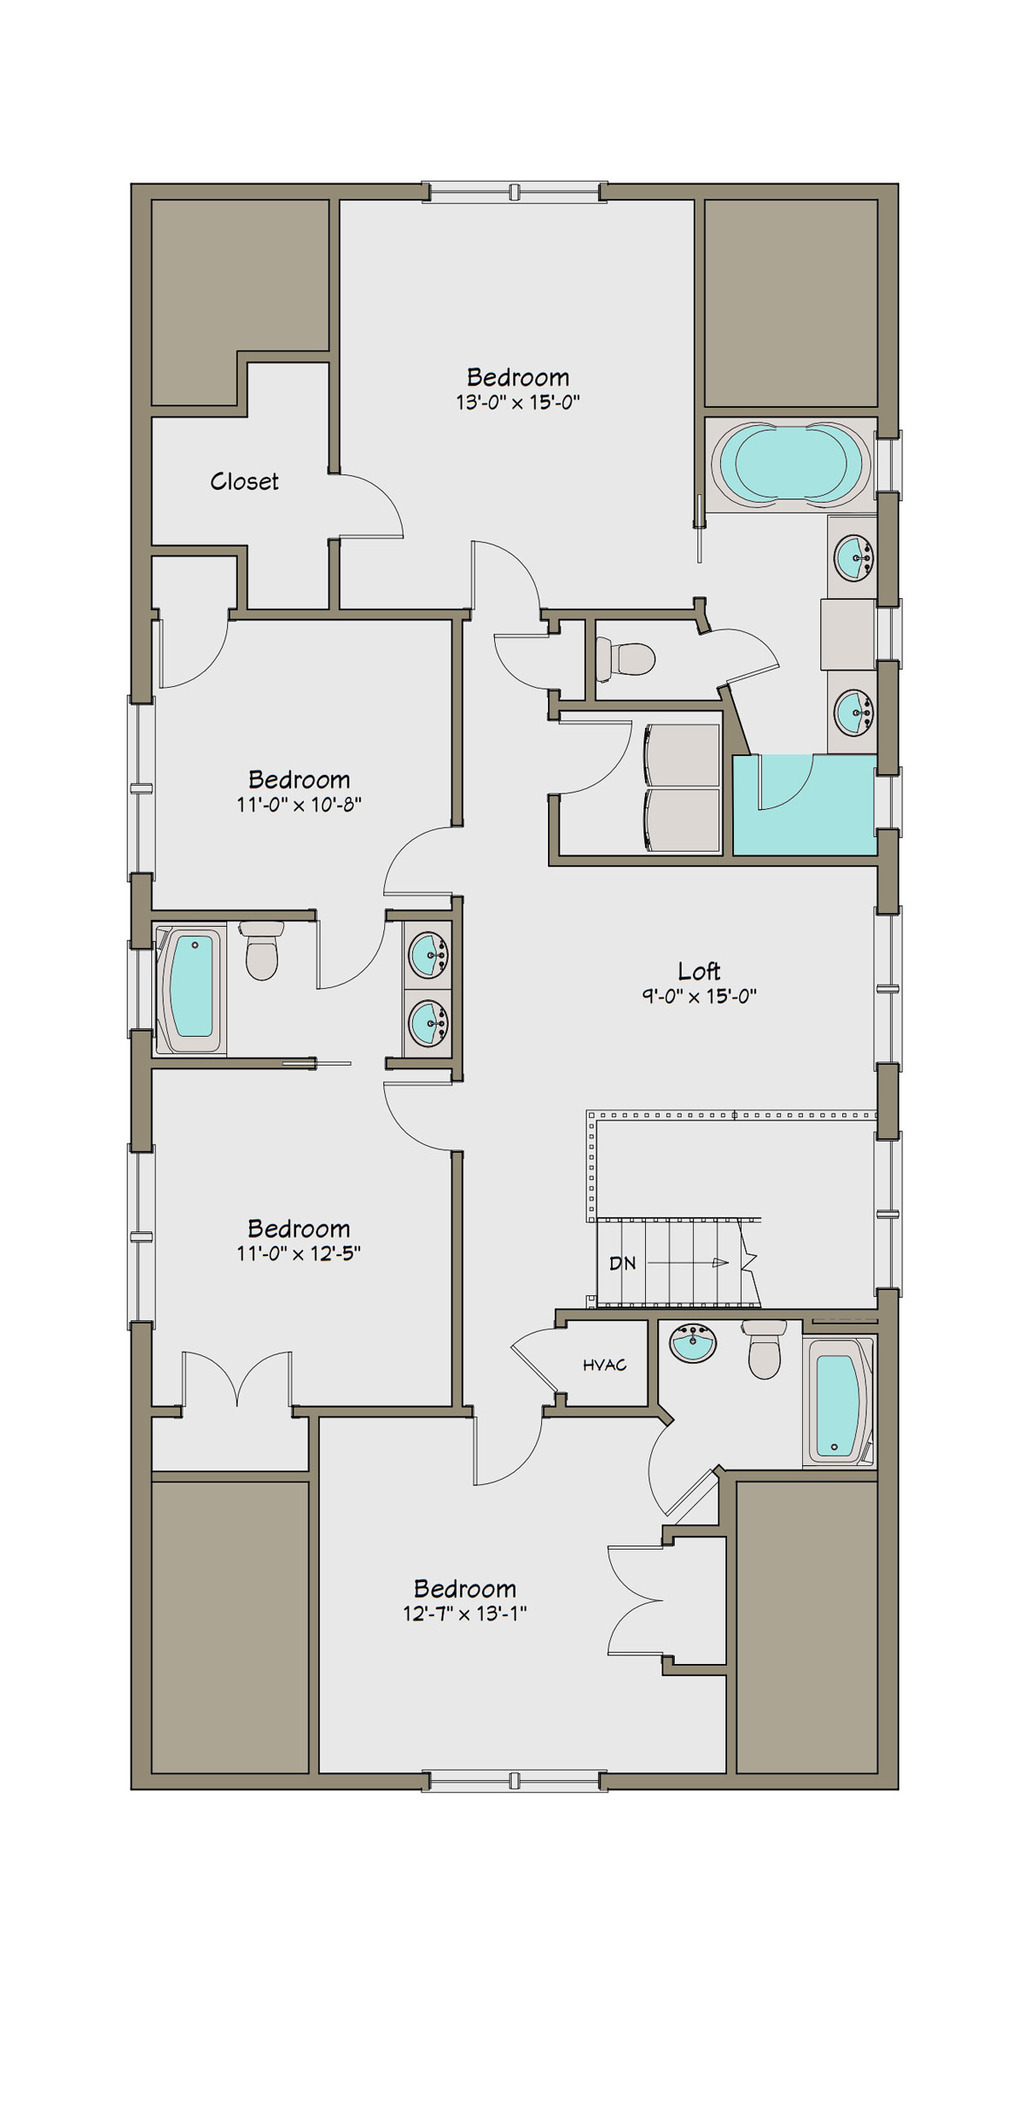door: (583, 1527, 701, 1690), (453, 1394, 593, 1511), (163, 1319, 323, 1421), (633, 1412, 737, 1534), (317, 454, 430, 558), (296, 904, 403, 1008), (377, 1078, 486, 1175), (513, 1315, 608, 1418), (154, 612, 253, 704), (543, 708, 647, 797), (459, 531, 552, 624), (380, 804, 473, 892), (482, 628, 577, 708), (707, 628, 783, 691)
large_sink: (597, 601, 680, 694), (237, 915, 292, 994), (740, 1311, 790, 1394)
small_sink: (393, 911, 482, 1071), (803, 671, 880, 748), (823, 504, 880, 598), (658, 1319, 733, 1381)
stairs: (513, 1193, 883, 1298)
tub: (701, 408, 893, 515), (147, 919, 247, 1061)
window: (407, 148, 633, 232), (857, 894, 936, 1114), (407, 1758, 627, 1801), (129, 1148, 163, 1315)
